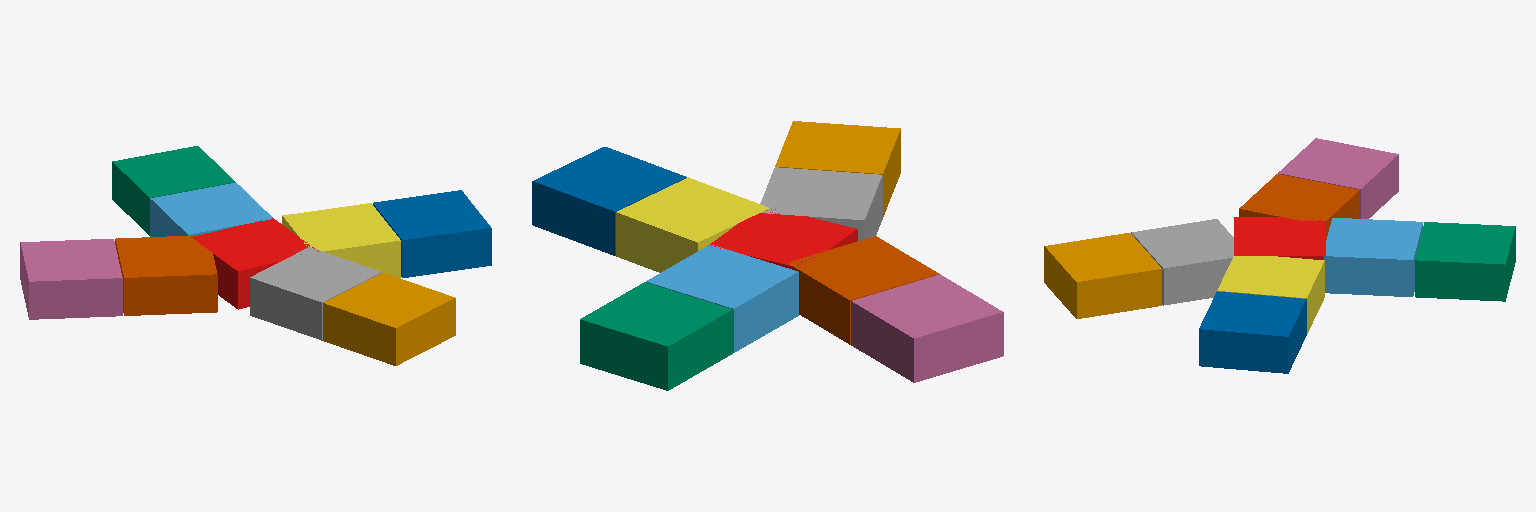
The robot description file, URDF, robot "Model_Models/Model_97.urdf3":
<?xml version='1.0' encoding='UTF-8'?>
<robot name="Model_Models/Model_97.urdf3">
  <link name="base_link">
    <inertial>
      <origin xyz="0.0 0.0 0.0" rpy="0.0 -0.0 0.0"/>
      <mass value="1.0"/>
      <inertia ixx="1.0" ixy="0.0" ixz="0.0" iyy="1.0" iyz="0.0" izz="1.0"/>
    </inertial>
    <visual>
      <geometry>
        <box size="0.67 0.67 0.3 "/>
      </geometry>
      <material name="red"/>
      <origin xyz="0.0 0.0 0.0" rpy="0.0 -0.0 0.0"/>
    </visual>
    <collision>
      <geometry>
        <box size="0.67 0.67 0.3 "/>
      </geometry>
      <origin xyz="0.0 0.0 0.0" rpy="0.0 0.0 0.0"/>
    </collision>
  </link>
  <link name="arm_0_arm1">
    <inertial>
      <origin xyz="0.0 0.34 0.0" rpy="0.0 0.0 0.0"/>
      <mass value="1.0"/>
      <inertia ixx="0.0" ixy="0.0" ixz="0.0" iyy="0.0" iyz="0.0" izz="0.0"/>
    </inertial>
    <visual>
      <geometry>
        <box size="0.67 0.67 0.3 "/>
      </geometry>
      <origin xyz="0.0 0.34 0.0" rpy="0.0 0.0 0.0"/>
    </visual>
    <collision>
      <geometry>
        <box size="0.67 0.67 0.3 "/>
      </geometry>
      <origin xyz="0.0 0.34 0.0" rpy="0.0 0.0 0.0"/>
    </collision>
  </link>
  <link name="arm_0_arm2">
    <inertial>
      <origin xyz="0.0 0.34 0.0" rpy="0.0 0.0 0.0"/>
      <mass value="1.0"/>
      <inertia ixx="0.0" ixy="0.0" ixz="0.0" iyy="0.0" iyz="0.0" izz="0.0"/>
    </inertial>
    <visual>
      <geometry>
        <box size="0.67 0.67 0.3 "/>
      </geometry>
      <origin xyz="0.0 0.34 0.0" rpy="0.0 0.0 0.0"/>
    </visual>
    <collision>
      <geometry>
        <box size="0.67 0.67 0.3 "/>
      </geometry>
      <origin xyz="0.0 0.34 0.0" rpy="0.0 0.0 0.0"/>
    </collision>
  </link>
  <link name="arm_2_arm1">
    <inertial>
      <origin xyz="0.0 0.34 0.0" rpy="0.0 0.0 0.0"/>
      <mass value="1.0"/>
      <inertia ixx="0.0" ixy="0.0" ixz="0.0" iyy="0.0" iyz="0.0" izz="0.0"/>
    </inertial>
    <visual>
      <geometry>
        <box size="0.67 0.67 0.3 "/>
      </geometry>
      <origin xyz="0.0 0.34 0.0" rpy="0.0 0.0 0.0"/>
    </visual>
    <collision>
      <geometry>
        <box size="0.67 0.67 0.3 "/>
      </geometry>
      <origin xyz="0.0 0.34 0.0" rpy="0.0 0.0 0.0"/>
    </collision>
  </link>
  <link name="arm_2_arm2">
    <inertial>
      <origin xyz="0.0 0.34 0.0" rpy="0.0 0.0 0.0"/>
      <mass value="1.0"/>
      <inertia ixx="0.0" ixy="0.0" ixz="0.0" iyy="0.0" iyz="0.0" izz="0.0"/>
    </inertial>
    <visual>
      <geometry>
        <box size="0.67 0.67 0.3 "/>
      </geometry>
      <origin xyz="0.0 0.34 0.0" rpy="0.0 0.0 0.0"/>
    </visual>
    <collision>
      <geometry>
        <box size="0.67 0.67 0.3 "/>
      </geometry>
      <origin xyz="0.0 0.34 0.0" rpy="0.0 0.0 0.0"/>
    </collision>
  </link>
  <link name="arm_3_arm1">
    <inertial>
      <origin xyz="0.0 0.34 0.0" rpy="0.0 0.0 0.0"/>
      <mass value="1.0"/>
      <inertia ixx="0.0" ixy="0.0" ixz="0.0" iyy="0.0" iyz="0.0" izz="0.0"/>
    </inertial>
    <visual>
      <geometry>
        <box size="0.67 0.67 0.3 "/>
      </geometry>
      <origin xyz="0.0 0.34 0.0" rpy="0.0 0.0 0.0"/>
    </visual>
    <collision>
      <geometry>
        <box size="0.67 0.67 0.3 "/>
      </geometry>
      <origin xyz="0.0 0.34 0.0" rpy="0.0 0.0 0.0"/>
    </collision>
  </link>
  <link name="arm_3_arm2">
    <inertial>
      <origin xyz="0.0 0.34 0.0" rpy="0.0 0.0 0.0"/>
      <mass value="1.0"/>
      <inertia ixx="0.0" ixy="0.0" ixz="0.0" iyy="0.0" iyz="0.0" izz="0.0"/>
    </inertial>
    <visual>
      <geometry>
        <box size="0.67 0.67 0.3 "/>
      </geometry>
      <origin xyz="0.0 0.34 0.0" rpy="0.0 0.0 0.0"/>
    </visual>
    <collision>
      <geometry>
        <box size="0.67 0.67 0.3 "/>
      </geometry>
      <origin xyz="0.0 0.34 0.0" rpy="0.0 0.0 0.0"/>
    </collision>
  </link>
  <link name="arm_Permutation_3_arm1">
    <inertial>
      <origin xyz="0.0 0.34 0.0" rpy="0.0 0.0 0.0"/>
      <mass value="1.0"/>
      <inertia ixx="0.0" ixy="0.0" ixz="0.0" iyy="0.0" iyz="0.0" izz="0.0"/>
    </inertial>
    <visual>
      <geometry>
        <box size="0.67 0.67 0.3 "/>
      </geometry>
      <origin xyz="0.0 0.34 0.0" rpy="0.0 0.0 0.0"/>
    </visual>
    <collision>
      <geometry>
        <box size="0.67 0.67 0.3 "/>
      </geometry>
      <origin xyz="0.0 0.34 0.0" rpy="0.0 0.0 0.0"/>
    </collision>
  </link>
  <link name="arm_Permutation_3_arm2">
    <inertial>
      <origin xyz="0.0 0.34 0.0" rpy="0.0 0.0 0.0"/>
      <mass value="1.0"/>
      <inertia ixx="0.0" ixy="0.0" ixz="0.0" iyy="0.0" iyz="0.0" izz="0.0"/>
    </inertial>
    <visual>
      <geometry>
        <box size="0.67 0.67 0.3 "/>
      </geometry>
      <origin xyz="0.0 0.34 0.0" rpy="0.0 0.0 0.0"/>
    </visual>
    <collision>
      <geometry>
        <box size="0.67 0.67 0.3 "/>
      </geometry>
      <origin xyz="0.0 0.34 0.0" rpy="0.0 0.0 0.0"/>
    </collision>
  </link>
  <joint name="arm_0_jointBase" type="fixed">
    <limit effort="1.57" velocity="1.57" lower="-1.57" upper="1.57"/>
    <parent link="base_link"/>
    <child link="arm_0_arm1"/>
    <axis xyz="1. 0. 0."/>
    <origin xyz="0.0 0.34 0.0" rpy="0.0 0.0 -0.11"/>
  </joint>
  <joint name="arm_0_joint1" type="revolute">
    <limit effort="1.57" velocity="1.57" lower="-1.57" upper="1.57"/>
    <parent link="arm_0_arm1"/>
    <child link="arm_0_arm2"/>
    <axis xyz="1. 0. 0."/>
    <origin xyz="0.0 0.68 0.0" rpy="0.0 0.0 0.0"/>
  </joint>
  <joint name="arm_2_jointBase" type="fixed">
    <limit effort="1.57" velocity="1.57" lower="-1.57" upper="1.57"/>
    <parent link="base_link"/>
    <child link="arm_2_arm1"/>
    <axis xyz="1. 0. 0."/>
    <origin xyz="0.34 0.0 0.0" rpy="0.0 0.0 -1.77"/>
  </joint>
  <joint name="arm_2_joint1" type="revolute">
    <limit effort="1.57" velocity="1.57" lower="-1.57" upper="1.57"/>
    <parent link="arm_2_arm1"/>
    <child link="arm_2_arm2"/>
    <axis xyz="1. 0. 0."/>
    <origin xyz="0.0 0.68 0.0" rpy="0.0 0.0 0.0"/>
  </joint>
  <joint name="arm_3_jointBase" type="fixed">
    <limit effort="1.57" velocity="1.57" lower="-1.57" upper="1.57"/>
    <parent link="base_link"/>
    <child link="arm_3_arm1"/>
    <axis xyz="1. 0. 0."/>
    <origin xyz="-0.34 0.0 0.0" rpy="0.0 0.0 1.14"/>
  </joint>
  <joint name="arm_3_joint1" type="revolute">
    <limit effort="1.57" velocity="1.57" lower="-1.57" upper="1.57"/>
    <parent link="arm_3_arm1"/>
    <child link="arm_3_arm2"/>
    <axis xyz="1. 0. 0."/>
    <origin xyz="0.0 0.68 0.0" rpy="0.0 0.0 0.0"/>
  </joint>
  <joint name="arm_Permutation_3_jointBase" type="fixed">
    <limit effort="1.57" velocity="1.57" lower="-1.57" upper="1.57"/>
    <parent link="base_link"/>
    <child link="arm_Permutation_3_arm1"/>
    <axis xyz="1. 0. 0."/>
    <origin xyz="0.0 -0.34 0.0" rpy="0.0 0.0 -2.7831853071795867"/>
  </joint>
  <joint name="arm_Permutation_3_joint1" type="revolute">
    <limit effort="1.57" velocity="1.57" lower="-1.57" upper="1.57"/>
    <parent link="arm_Permutation_3_arm1"/>
    <child link="arm_Permutation_3_arm2"/>
    <axis xyz="1. 0. 0."/>
    <origin xyz="0.0 0.68 0.0" rpy="0.0 0.0 0.0"/>
  </joint>
  <material name="red">
    <color rgba="0.969 0.129 0.122 1.   "/>
  </material>
</robot>

--- Facts derived from the render (not from the file) ---
Views: 3 orthographic renders of the robot side by side, from view 1: azimuth 30°, elevation 25°; view 2: azimuth 150°, elevation 25°; view 3: azimuth 270°, elevation 25°.
Robot: Model_Models/Model_97.urdf3 — 9 links, 8 joints (4 revolute, 4 fixed); root link base_link; default pose: all joints at 0.
Visible links, largest first — view 1: arm_Permutation_3_arm2, arm_3_arm2, arm_2_arm2, arm_3_arm1, arm_Permutation_3_arm1, arm_0_arm2, arm_2_arm1, base_link, arm_0_arm1; view 2: arm_0_arm2, arm_3_arm2, arm_2_arm2, arm_2_arm1, arm_0_arm1, arm_3_arm1, arm_Permutation_3_arm1, arm_Permutation_3_arm2, base_link; view 3: arm_Permutation_3_arm2, arm_2_arm2, arm_0_arm2, arm_0_arm1, arm_Permutation_3_arm1, arm_3_arm2, arm_2_arm1, arm_3_arm1, base_link.
Boxes of the visible links, <box> form: arm_Permutation_3_arm2: <box>323,273,455,365</box>; arm_3_arm2: <box>20,239,122,319</box>; arm_2_arm2: <box>373,190,491,277</box>; arm_3_arm1: <box>115,235,217,315</box>; arm_Permutation_3_arm1: <box>250,247,381,340</box>; arm_0_arm2: <box>112,146,235,235</box>; arm_2_arm1: <box>282,203,400,278</box>; base_link: <box>191,218,318,309</box>; arm_0_arm1: <box>150,183,272,236</box>; arm_0_arm2: <box>580,282,732,390</box>; arm_3_arm2: <box>851,274,1003,382</box>; arm_2_arm2: <box>532,147,686,255</box>; arm_2_arm1: <box>616,177,768,272</box>; arm_0_arm1: <box>646,245,798,352</box>; arm_3_arm1: <box>787,236,938,344</box>; arm_Permutation_3_arm1: <box>760,167,882,240</box>; arm_Permutation_3_arm2: <box>775,121,900,216</box>; base_link: <box>708,209,857,269</box>; arm_Permutation_3_arm2: <box>1044,233,1161,318</box>; arm_2_arm2: <box>1199,291,1306,373</box>; arm_0_arm2: <box>1415,222,1515,301</box>; arm_0_arm1: <box>1324,218,1422,296</box>; arm_Permutation_3_arm1: <box>1131,219,1233,305</box>; arm_3_arm2: <box>1278,138,1398,218</box>; arm_2_arm1: <box>1217,256,1324,333</box>; arm_3_arm1: <box>1239,174,1359,239</box>; base_link: <box>1234,217,1325,259</box>.
Bounding box of the posed robot: 3.45 × 3.45 × 0.3 m (x, y, z).
Geometry: primitives only (box / cylinder / sphere), no mesh files.